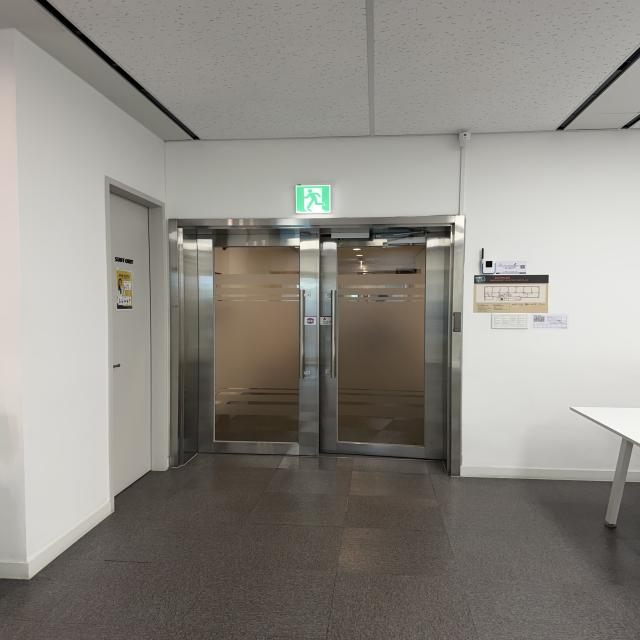rear_door: (180, 224, 453, 464)
